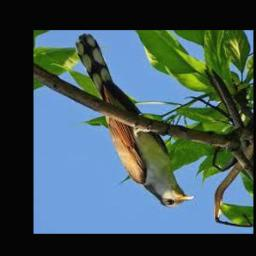Cuckoo: (75, 33, 195, 208)
